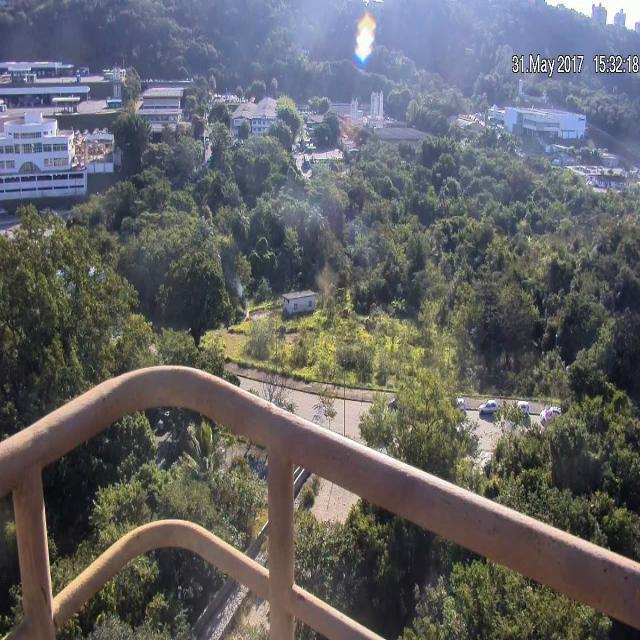Fire: (354, 11, 376, 62)
